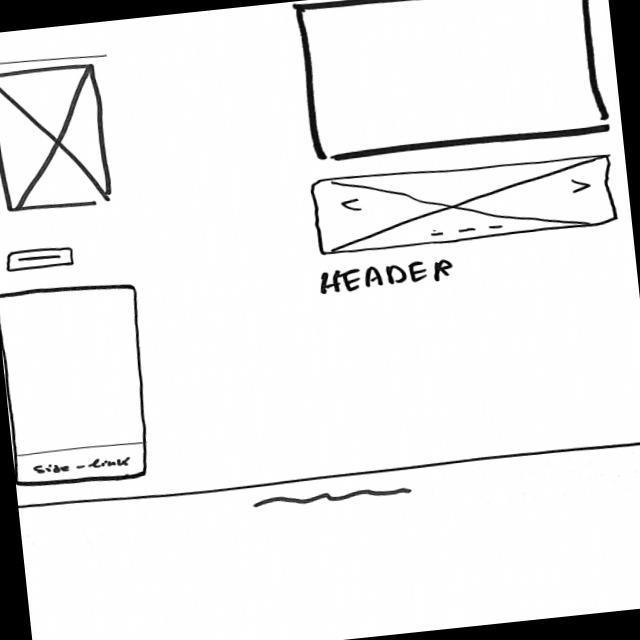container: (287, 1, 611, 165), (1, 277, 155, 496)
icon-button: (3, 243, 75, 275)
image: (309, 149, 621, 257), (1, 61, 117, 216)
label: (314, 255, 458, 301), (30, 453, 136, 477)
text: (251, 482, 415, 514)
